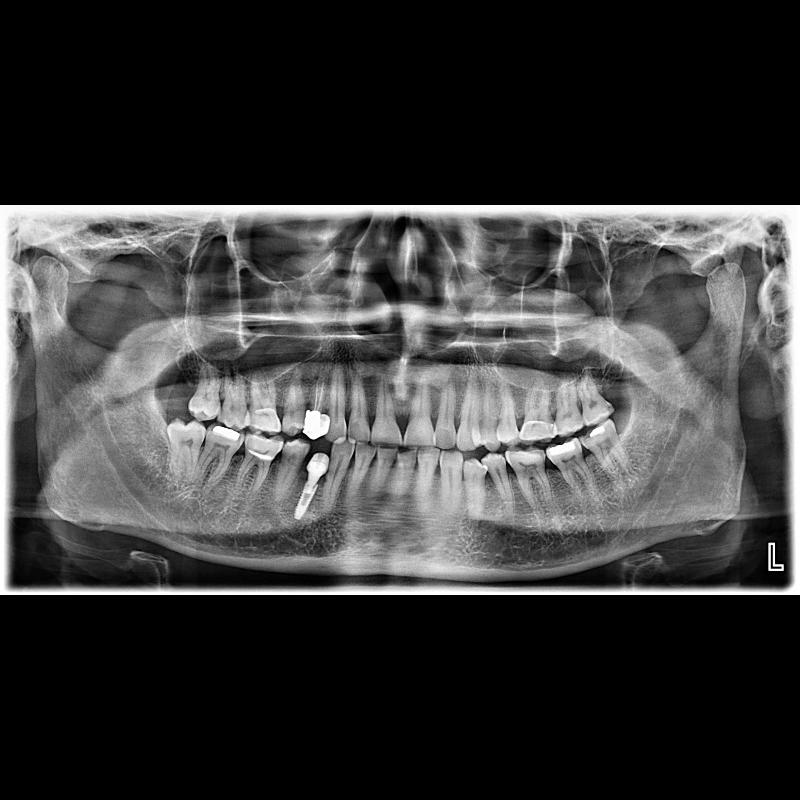osstem: (289, 481, 321, 519)
